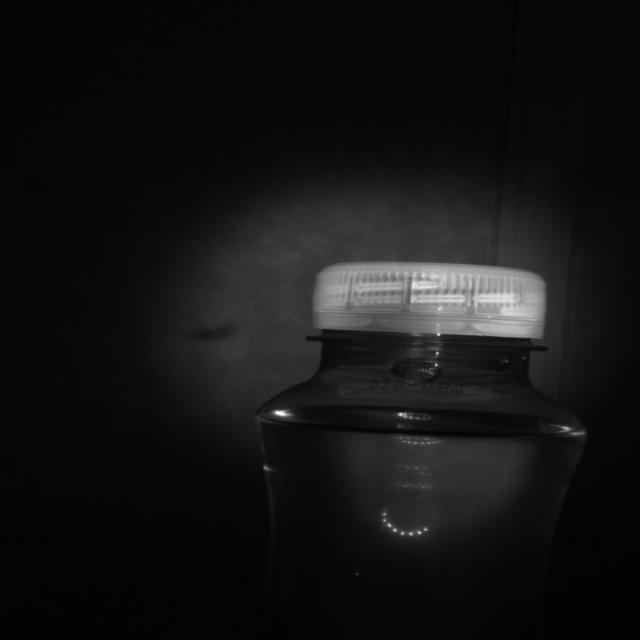Good: (308, 260, 548, 341)
